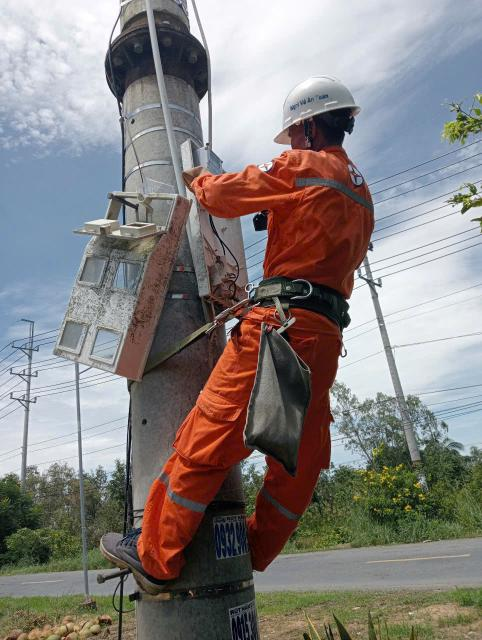gloves: (178, 162, 224, 201)
harness: (233, 264, 375, 331)
helmet: (255, 75, 382, 139)
shoes: (89, 526, 168, 599)
